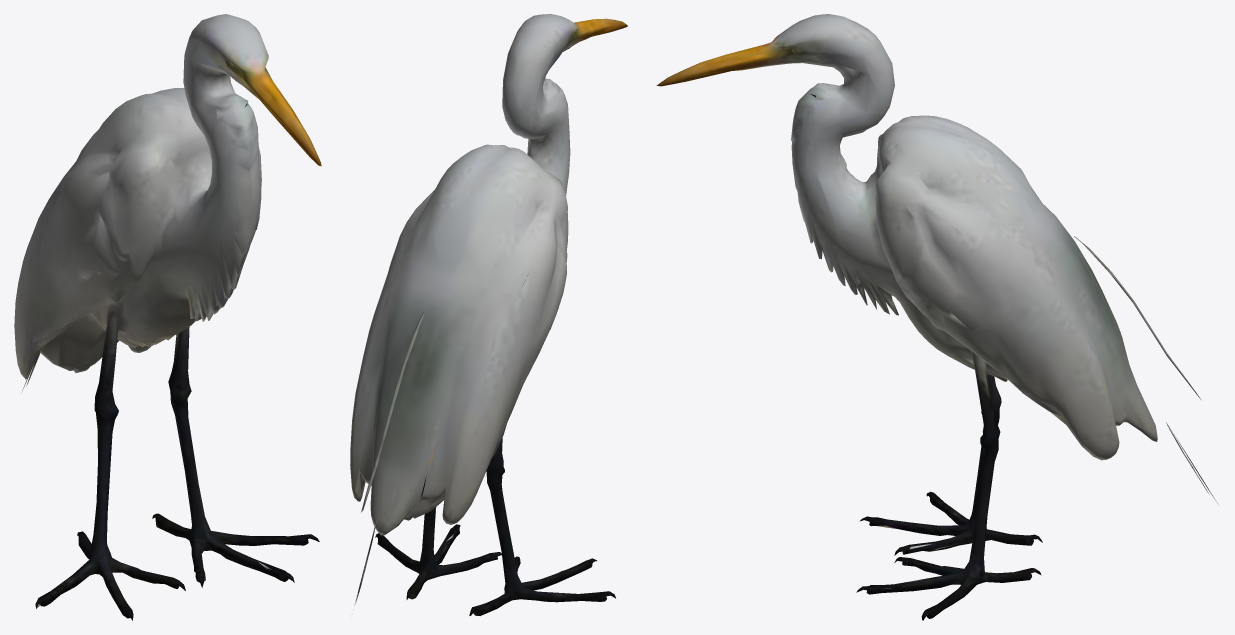
Rendered from egret-m.glb.
3 renders of one model, left to right at view 1: azimuth 30°, elevation 25°; view 2: azimuth 150°, elevation 25°; view 3: azimuth 270°, elevation 25°, orthographic. The views are drawn at different scales.
Visible parts, largest first — view 1: egret; view 2: egret; view 3: egret.
Part boxes in pixels (x1,y1,x2,y2): egret: [14, 14, 321, 620]; egret: [350, 14, 627, 615]; egret: [656, 14, 1217, 620].
Size of the model in its own units: 0.4659 by 0.95 by 0.8936.
1 material, 1 textured.
